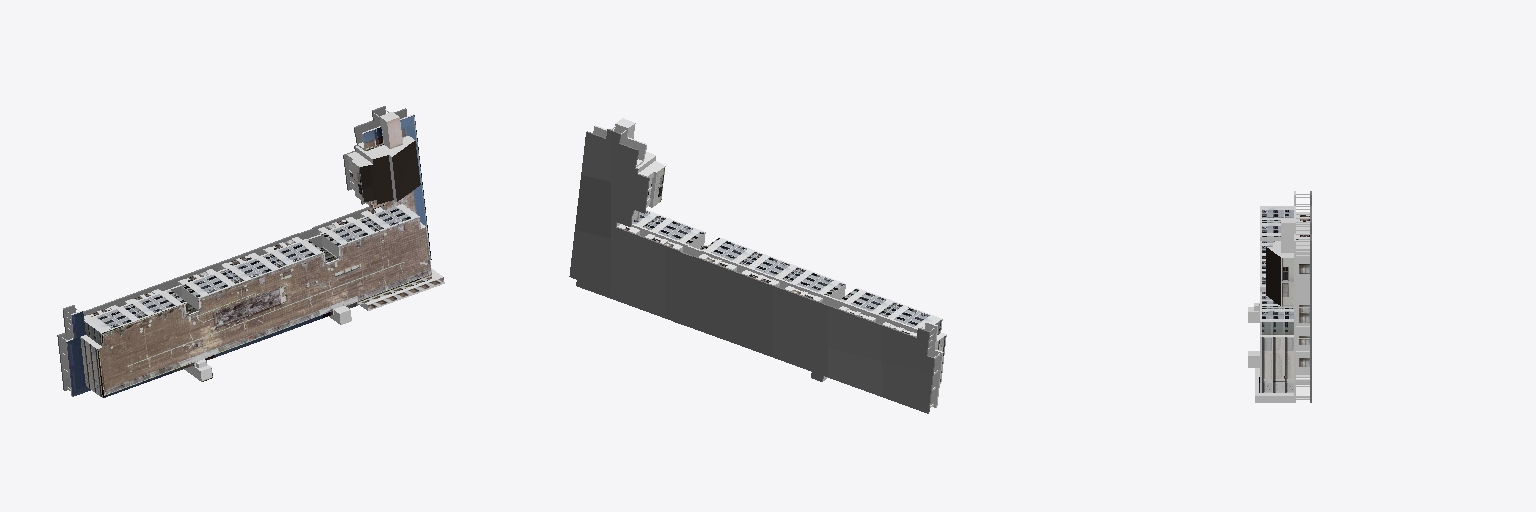
3 views of the same model, side by side, from view 1: azimuth 30°, elevation 25°; view 2: azimuth 150°, elevation 25°; view 3: azimuth 270°, elevation 25° (orthographic).
Visible parts, largest first — view 1: polygon.863; view 2: polygon.863; view 3: polygon.863.
Part boxes in pixels (bbox=[...]): polygon.863: bbox=[57, 106, 444, 397]; polygon.863: bbox=[569, 118, 946, 413]; polygon.863: bbox=[1248, 191, 1311, 402].
Size of the model in its own units: 102 by 54.87 by 15.5.
1 materials, 1 textured.